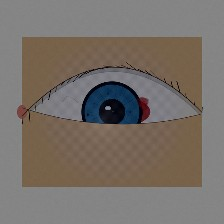hemorrhage_spot: (74, 77, 162, 147)
